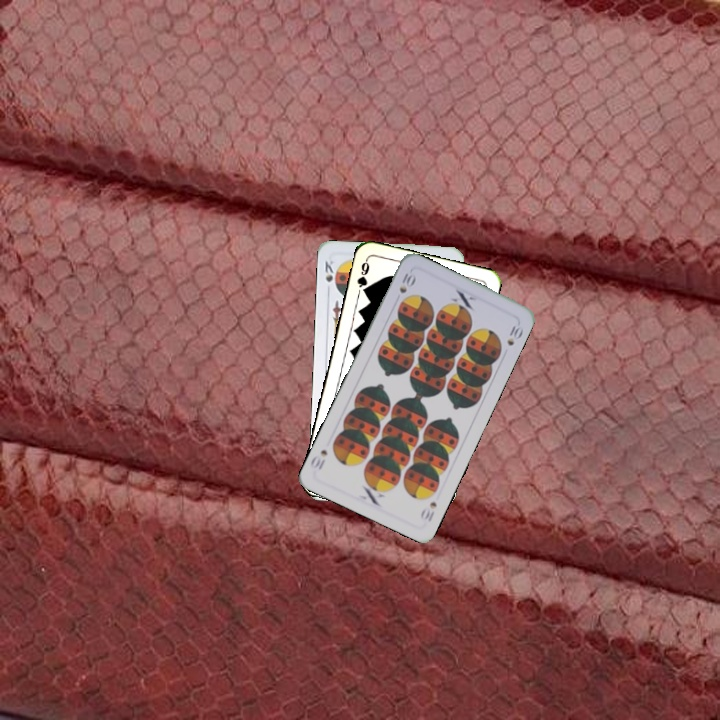G9: (353, 256, 372, 297)
S10: (395, 269, 418, 296), (416, 498, 439, 525)
SK: (321, 257, 337, 285)
